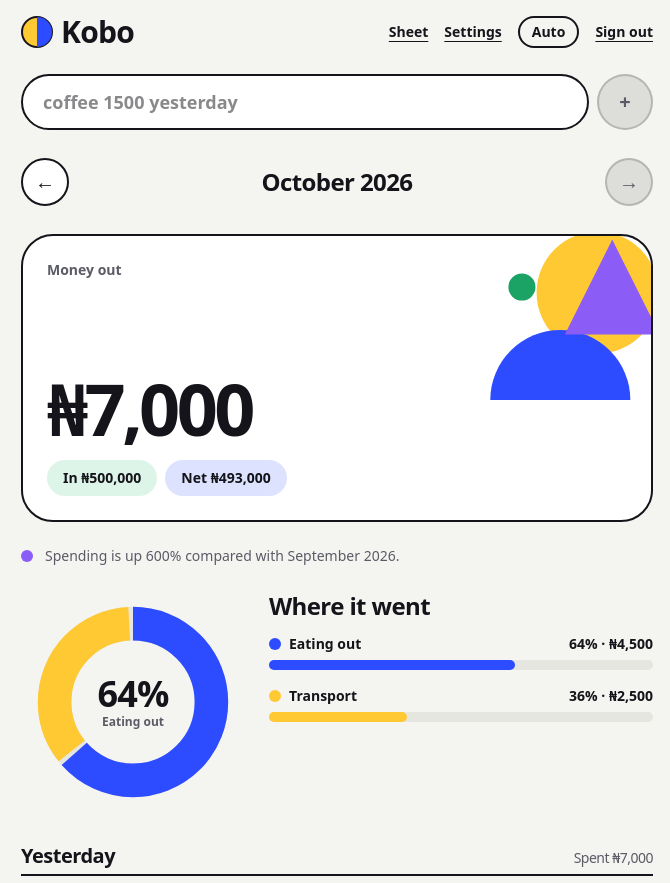
Test: Home: month summary › switches months, and cannot go into the future
expect the heading "October 2026" is shown: met, box [262,166,412,198]
expect the button named "Next month" is disabled: met, box [605,158,653,206]
Click the button named "Previous month": (45,182) [21,158,69,206]
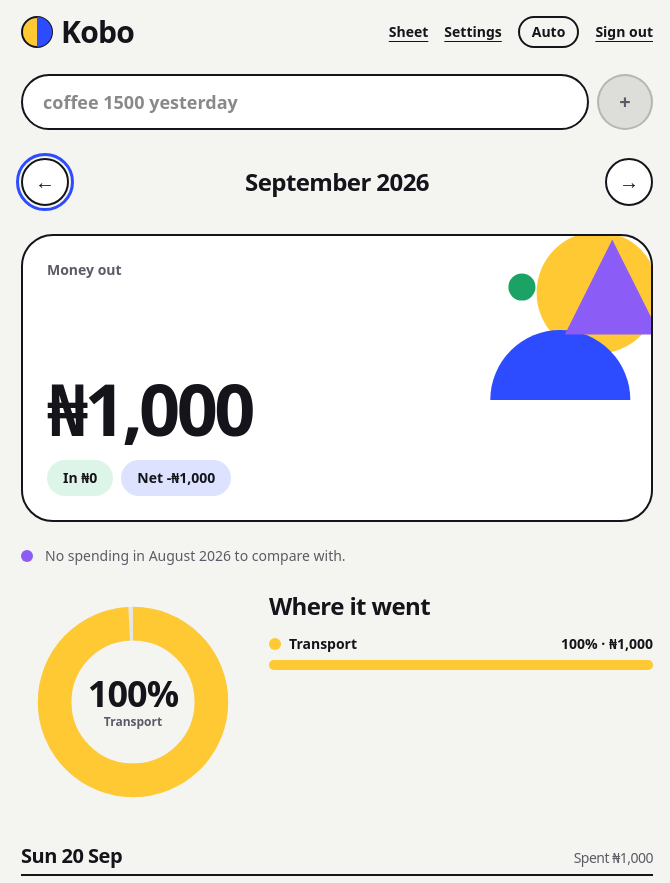
expect the heading "September 2026" is shown: met, box [245,166,429,198]
expect the text "₦1,000" below "Money out" is shown: met, box [47,359,252,457]
expect the button named "Next month" is enabled: met, box [605,158,653,206]
